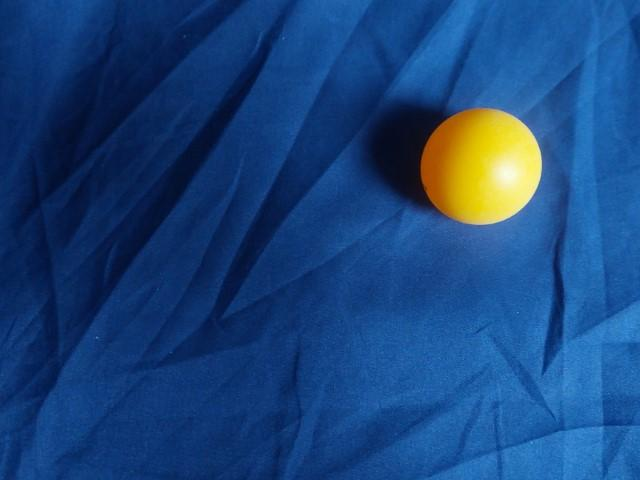oball: (93, 251, 227, 380)
